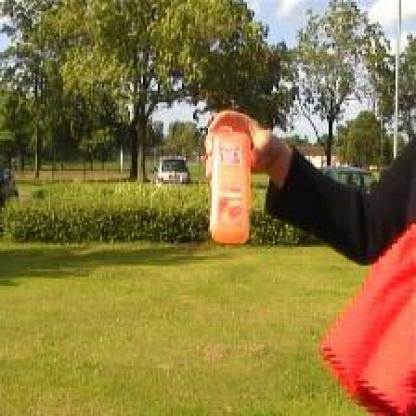other: (327, 219, 409, 410), (189, 115, 256, 241)
